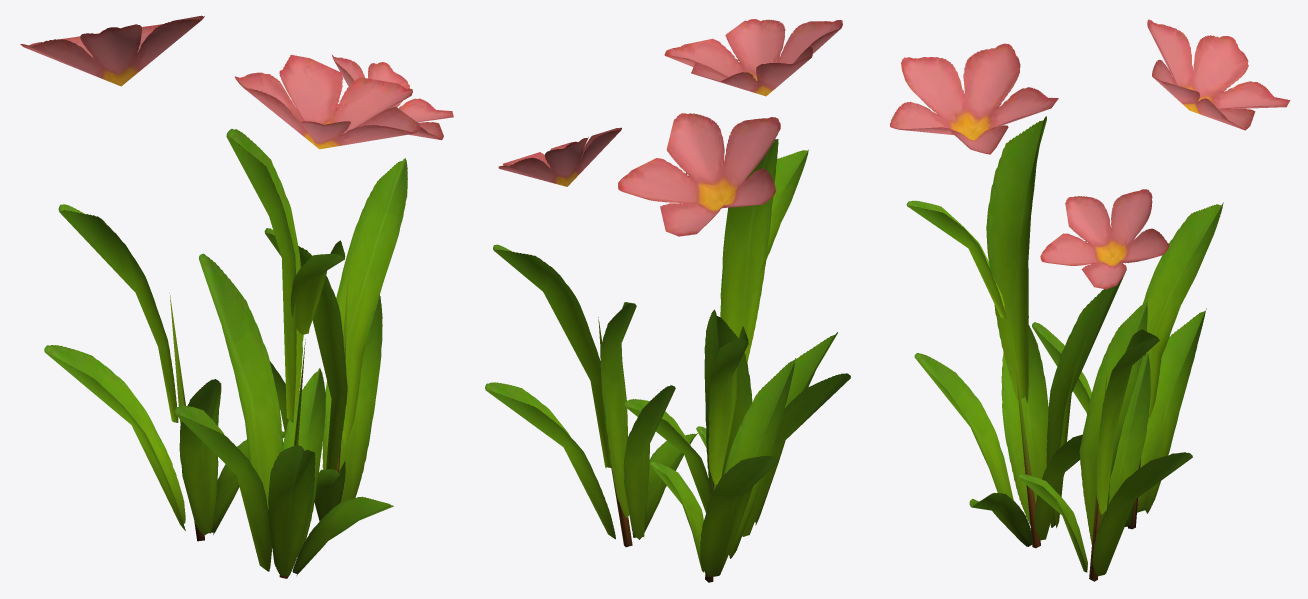
The model's file is Flower_3_Group.glb.
3 views of the same model, side by side, from view 1: azimuth 30°, elevation 25°; view 2: azimuth 150°, elevation 25°; view 3: azimuth 270°, elevation 25° (orthographic). The views are drawn at different scales.
Parts seen in each view (by area): view 1: Flower_3_Group; view 2: Flower_3_Group; view 3: Flower_3_Group.
Part boxes in pixels (x1,y1,x2,y2): Flower_3_Group: (20, 15, 453, 578); Flower_3_Group: (485, 19, 850, 582); Flower_3_Group: (890, 19, 1290, 581).
Bounding box in the file's own units: 1.49 × 2.05 × 1.59.
2 materials, 2 textured.
